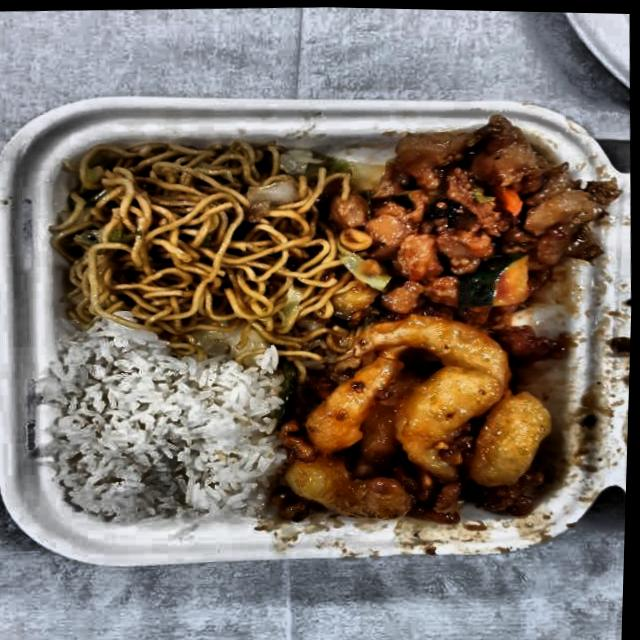Food: (272, 309, 576, 531), (51, 129, 342, 349), (328, 114, 610, 326), (41, 328, 287, 529)
